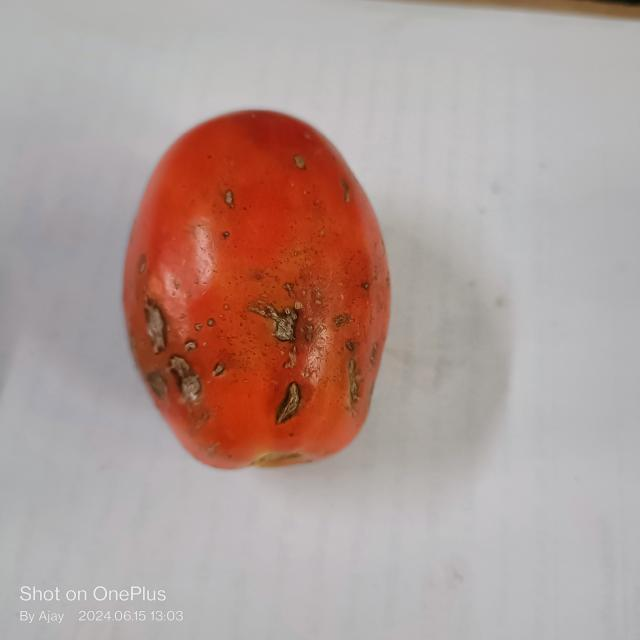Bacterial_Spot: (254, 297, 304, 343), (136, 295, 172, 353), (166, 356, 204, 397), (271, 384, 302, 424), (346, 360, 359, 412), (334, 312, 353, 328), (341, 181, 351, 203), (224, 190, 235, 207), (293, 155, 305, 169), (184, 341, 198, 352), (212, 364, 222, 376), (344, 340, 354, 350), (206, 319, 215, 327), (222, 231, 230, 238), (223, 304, 230, 310)
